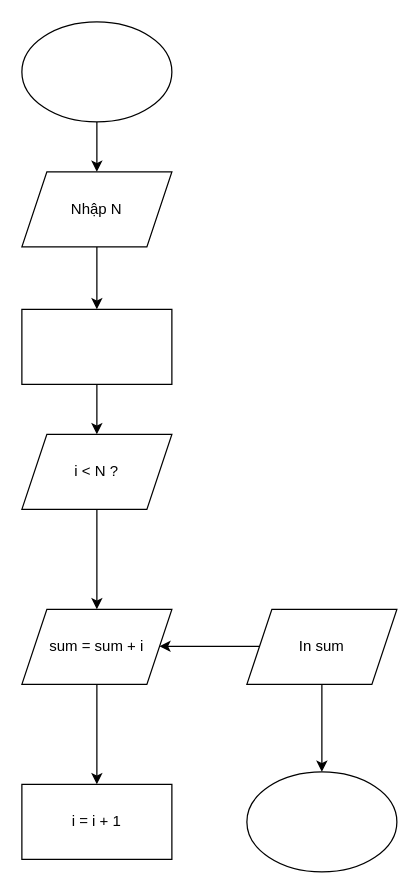
Image size: 419x894. Some labels were removed from this diagram. The centre of each missing label's shape, as x and y in pixels:
Bắt đầu: point 96,71
SUM=0 , i=1: point 96,346
